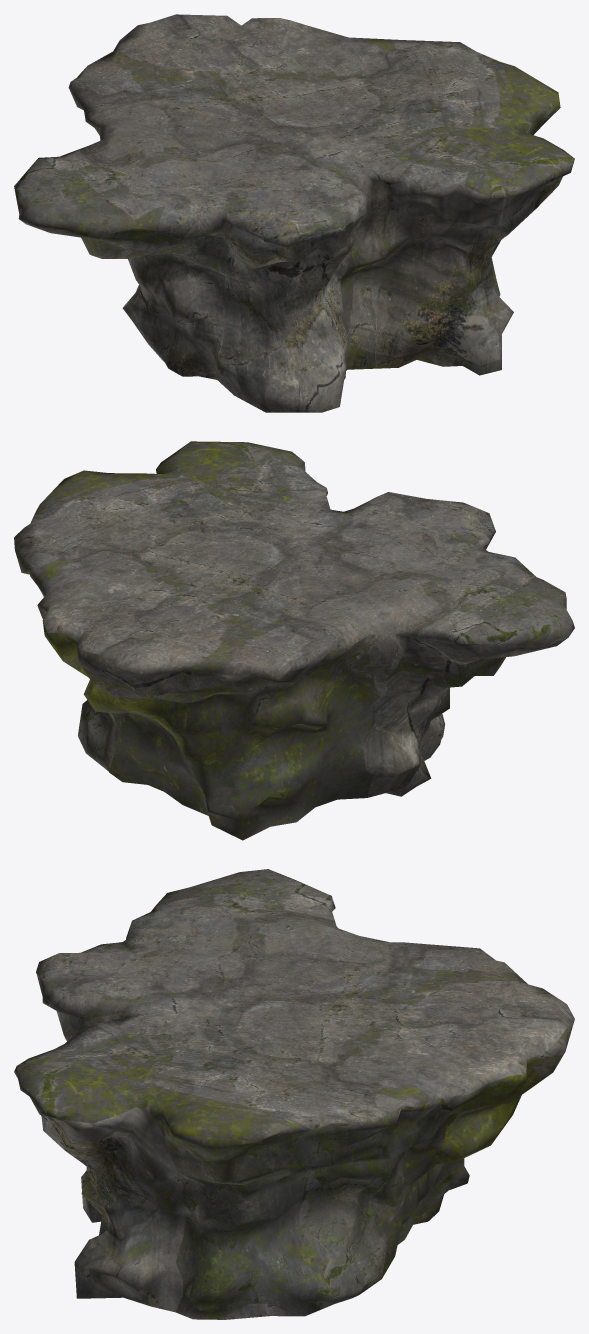
Rendered from Rock4.fbx.
3 views of the same model, one above another, from view 1: azimuth 30°, elevation 25°; view 2: azimuth 150°, elevation 25°; view 3: azimuth 270°, elevation 25° (orthographic). The views are drawn at different scales.
Visible parts, largest first — view 1: LV_Campagna_MoleCricketsDen_Pillar03_SM_EYE; view 2: LV_Campagna_MoleCricketsDen_Pillar03_SM_EYE; view 3: LV_Campagna_MoleCricketsDen_Pillar03_SM_EYE.
Part boxes in pixels (<box>): LV_Campagna_MoleCricketsDen_Pillar03_SM_EYE: <box>14,14,574,412</box>; LV_Campagna_MoleCricketsDen_Pillar03_SM_EYE: <box>14,441,574,840</box>; LV_Campagna_MoleCricketsDen_Pillar03_SM_EYE: <box>14,869,574,1319</box>.
Bounding box in the file's own units: 12.47 × 5.15 × 10.9.
1 material, 1 textured.
